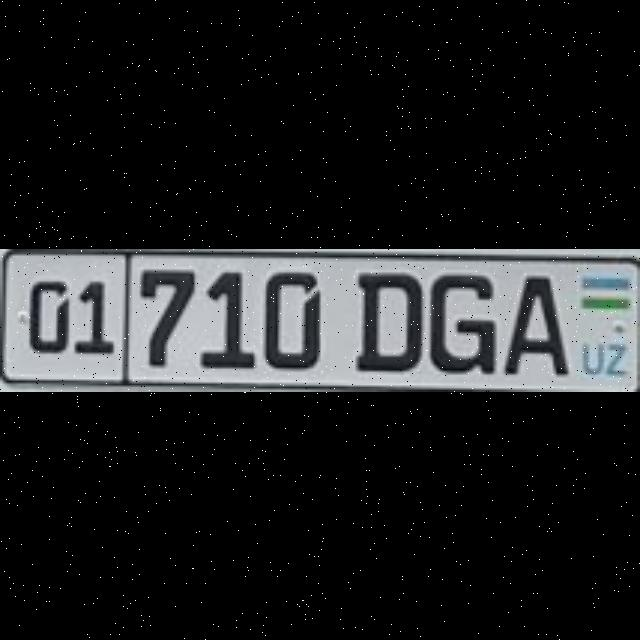0: (260, 269, 318, 365), (23, 275, 62, 347)
1: (194, 266, 252, 364), (68, 274, 108, 350)
7: (134, 266, 188, 364)
A: (500, 272, 562, 371)
D: (349, 269, 418, 371)
G: (425, 269, 491, 371)
